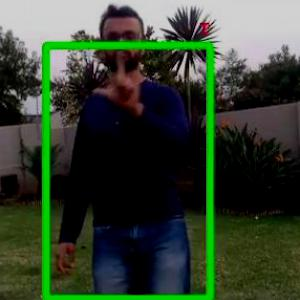land_hand: (88, 34, 144, 112)
